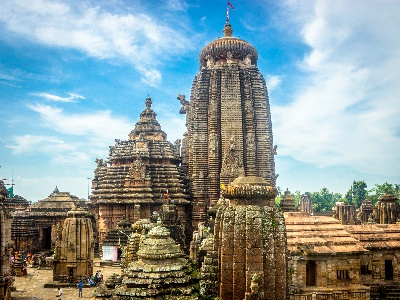amalaka: (179, 33, 275, 67)
gopuram: (173, 69, 291, 187), (206, 199, 296, 296)
